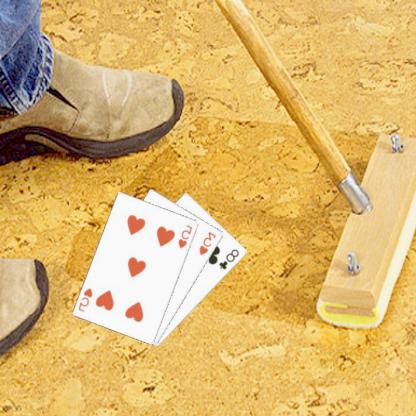3H: (199, 229, 219, 257)
5H: (78, 285, 96, 313), (178, 222, 195, 250)
8C: (218, 247, 242, 271)
